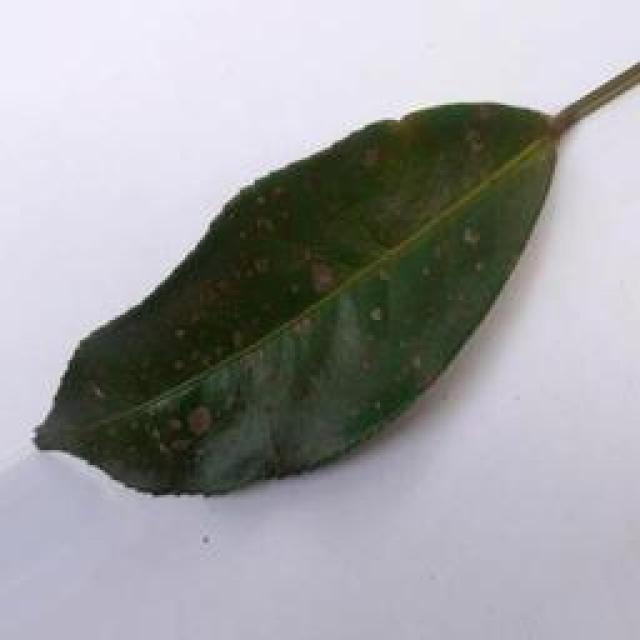Algal Leaf Spot: (21, 101, 551, 479)
